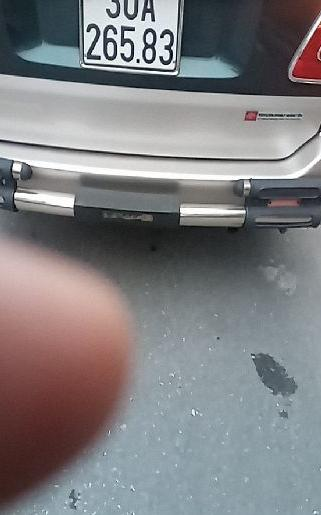Plate-iWeP: (79, 0, 181, 78)
